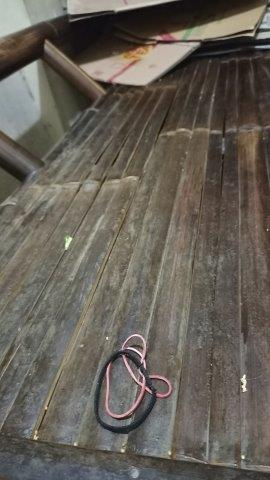karet: (94, 334, 173, 433)
